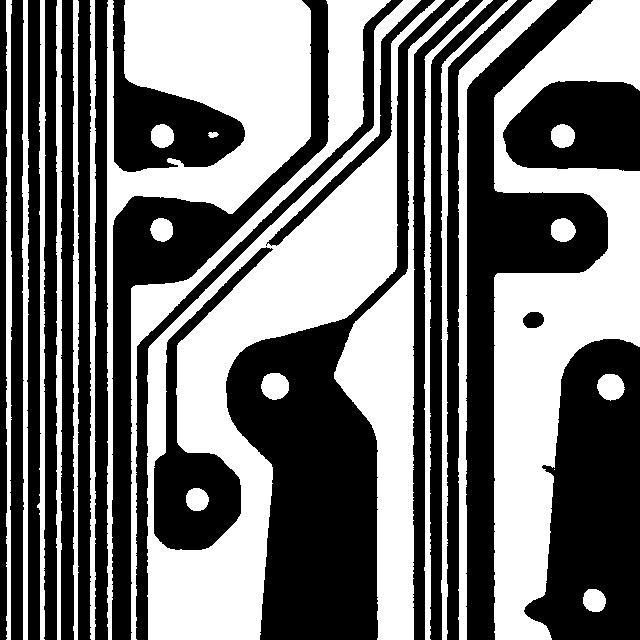copper: (513, 302, 553, 337)
mousebite: (157, 148, 193, 177)
open: (248, 232, 288, 258)
pin-hole: (198, 122, 228, 147)
spur: (532, 455, 572, 491)
